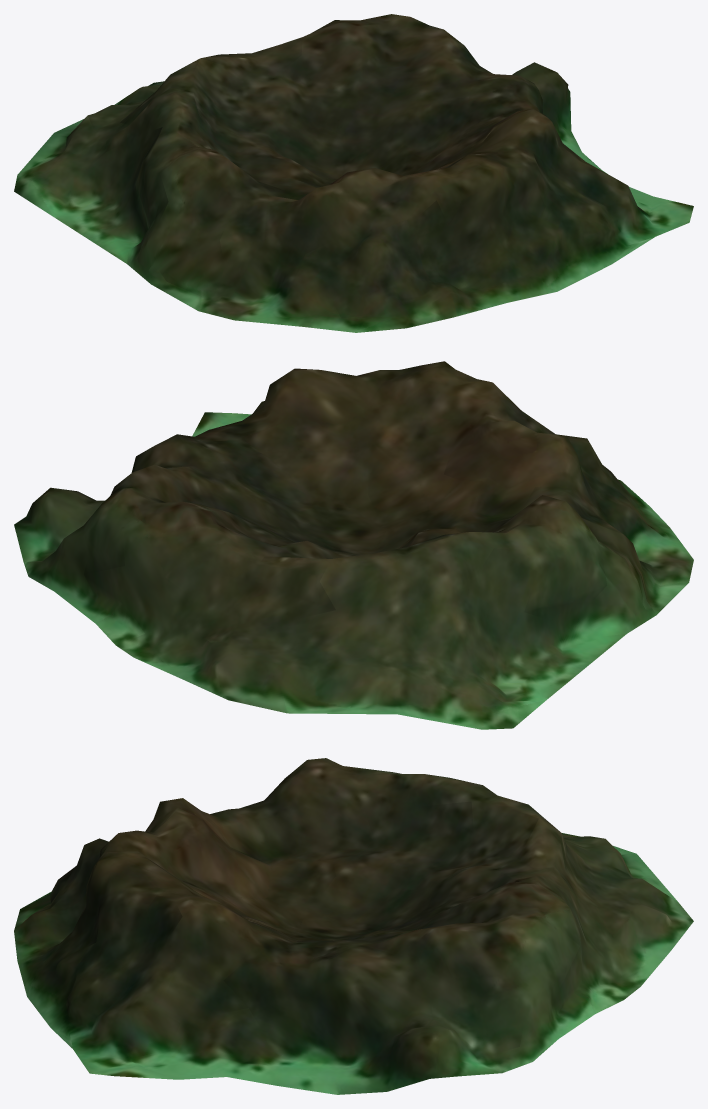
The model's file is dirtpile_dirt_pile_04.fbx.
3 views of the same model, one above another, from view 1: azimuth 30°, elevation 25°; view 2: azimuth 150°, elevation 25°; view 3: azimuth 270°, elevation 25° (orthographic). The views are drawn at different scales.
Parts seen in each view (by area): view 1: dirt_pile_04; view 2: dirt_pile_04; view 3: dirt_pile_04.
Part boxes in pixels (<box>): dirt_pile_04: <box>14,14,693,332</box>; dirt_pile_04: <box>14,361,693,729</box>; dirt_pile_04: <box>14,758,693,1094</box>.
Size of the model in its own units: 0.1433 by 0.0327 by 0.1524.
1 material, 1 textured.
